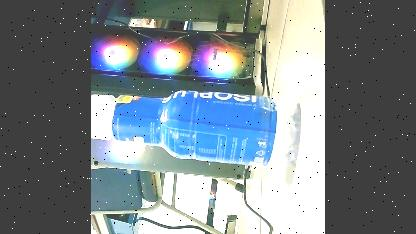Plastic Bottle: (92, 88, 302, 171)
